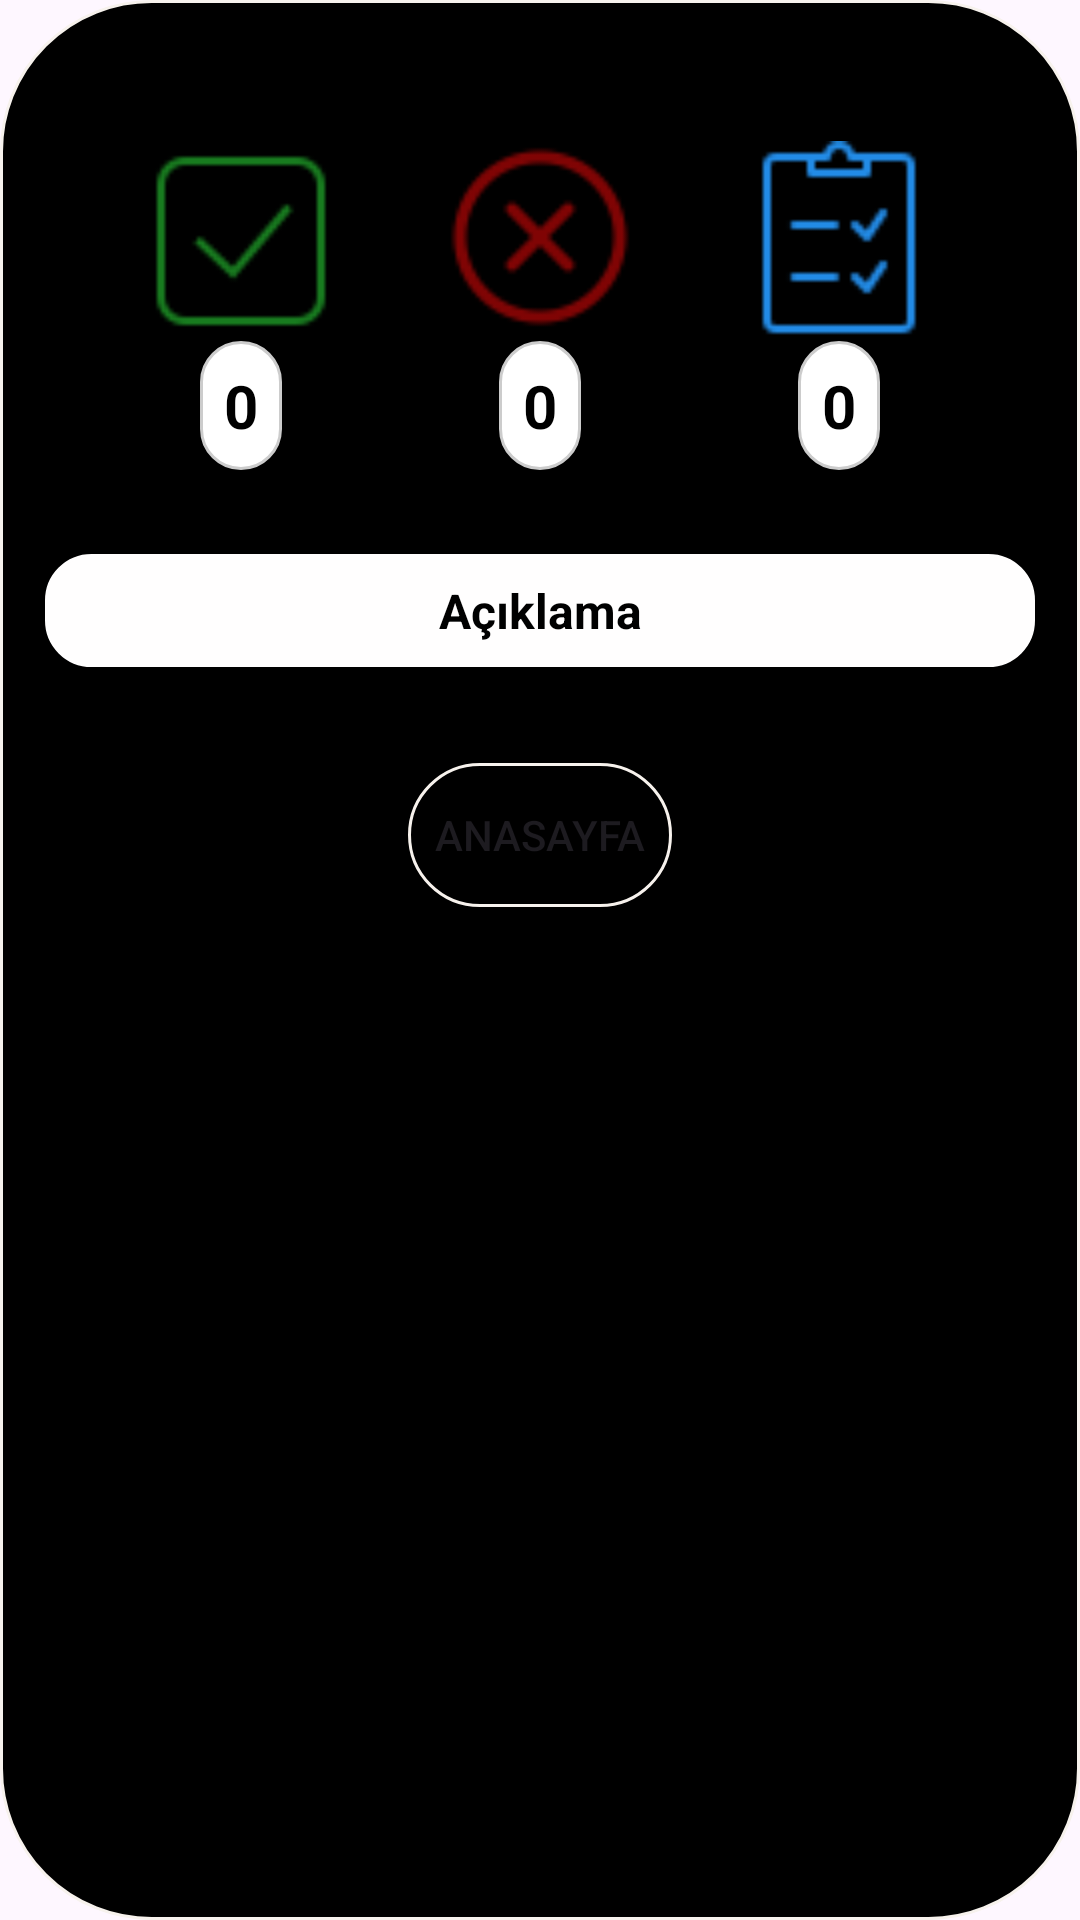

Named icons in this screenshot (1080 × 1920) and their centers, point (x, y):
correct: point (241, 241)
incorrect: point (540, 237)
quiz: point (839, 238)
